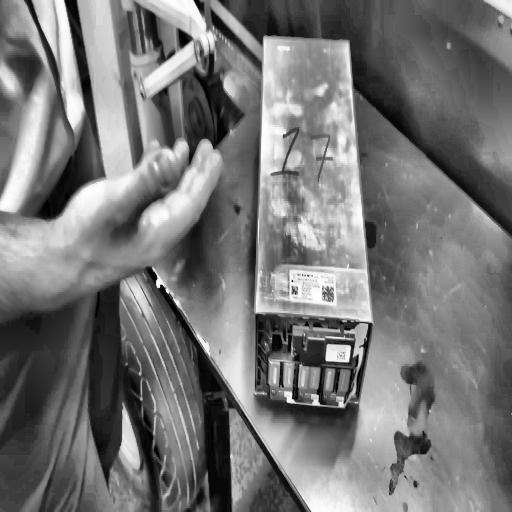battery_module: (255, 36, 372, 407)
